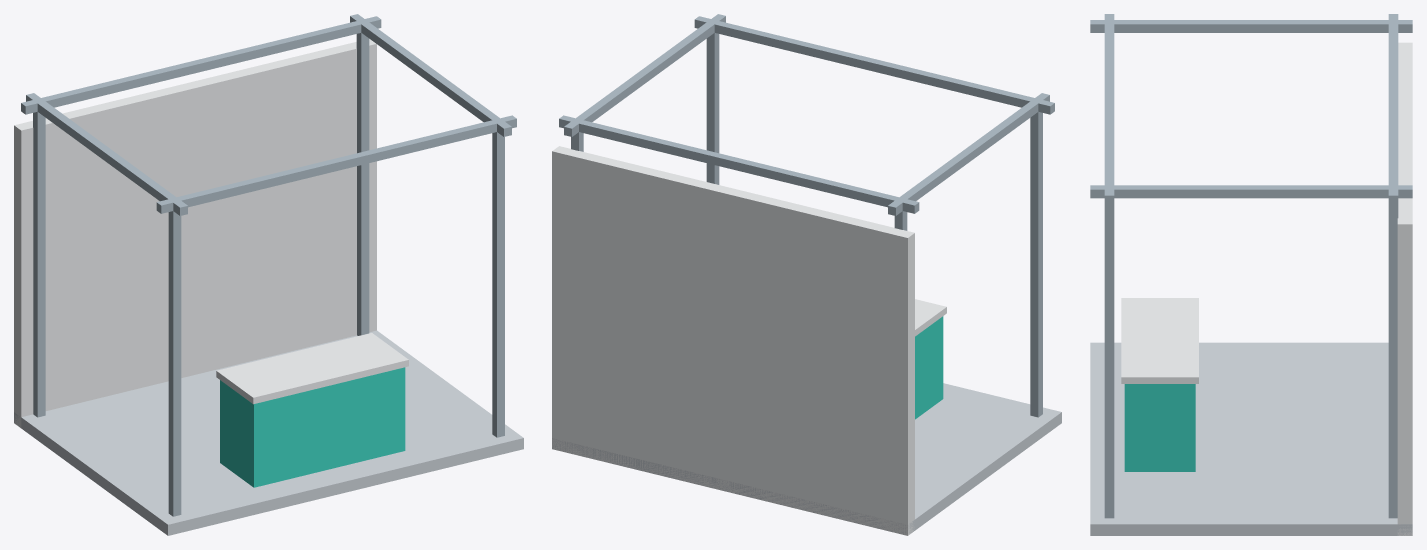
3 renders of one model, left to right at view 1: azimuth 30°, elevation 25°; view 2: azimuth 150°, elevation 25°; view 3: azimuth 270°, elevation 25°, orthographic. The views are drawn at different scales.
Parts seen in each view (by area): view 1: Exhibition Booth Concept; view 2: Exhibition Booth Concept; view 3: Exhibition Booth Concept.
Part boxes in pixels (x1,y1,x2,y2): Exhibition Booth Concept: (14, 14, 523, 535); Exhibition Booth Concept: (552, 14, 1061, 535); Exhibition Booth Concept: (1090, 14, 1412, 535).
Size of the model in its own units: 4 by 3.49 by 3.
